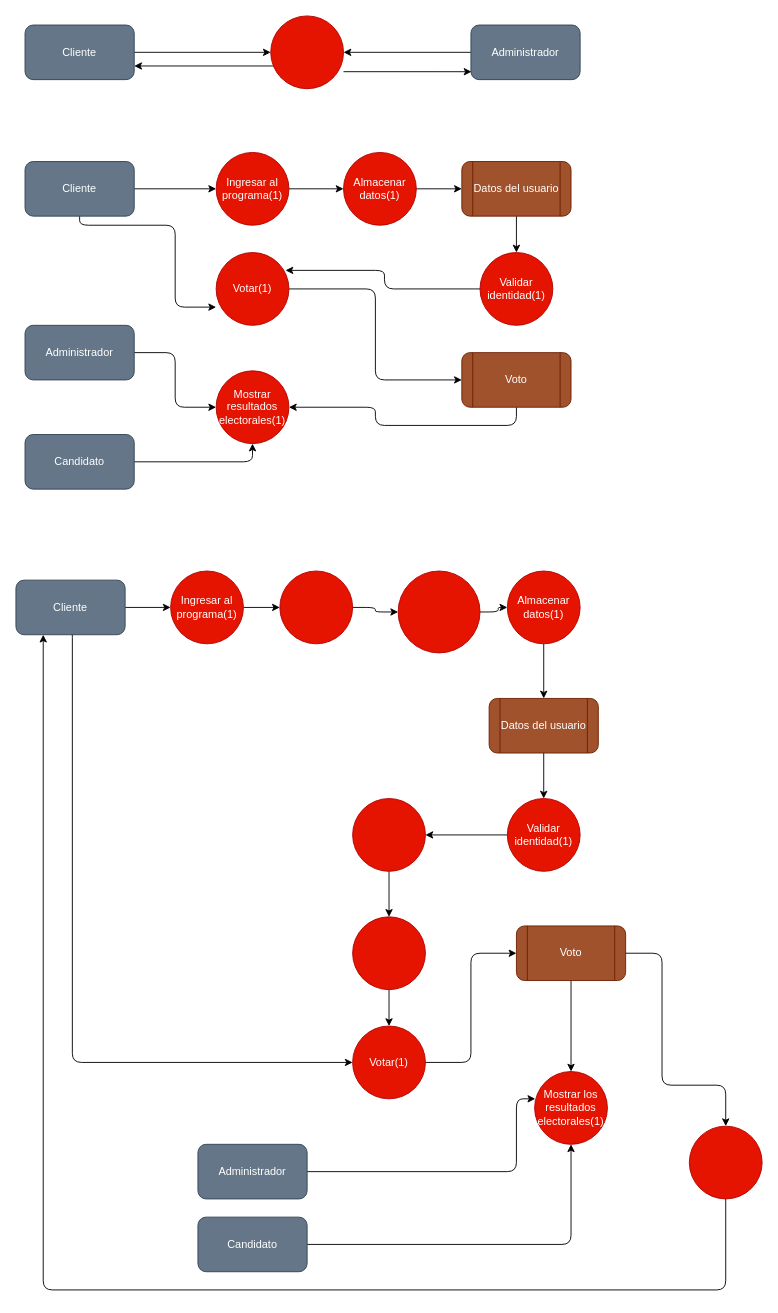
Image size: 778x1313. Some labels were removed from this diagram. The centre of each missing label's shape, as x and y in pixels:
"Elegir candidato(2)" goes at (x=388, y=953).
"Mostrar lista de candidatos(2)" goes at (x=388, y=834).
"Mostrar mensaje. Usuario Registrado(2)" goes at (x=438, y=611).
"Notificar al usuario de su voto(2)" goes at (x=725, y=1162).
"Registrarse(2)" goes at (x=316, y=607).
"Sistema de votacion(0)" goes at (x=307, y=52).
